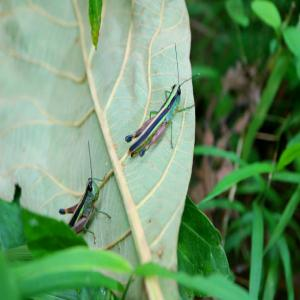locust: (131, 53, 200, 171)
